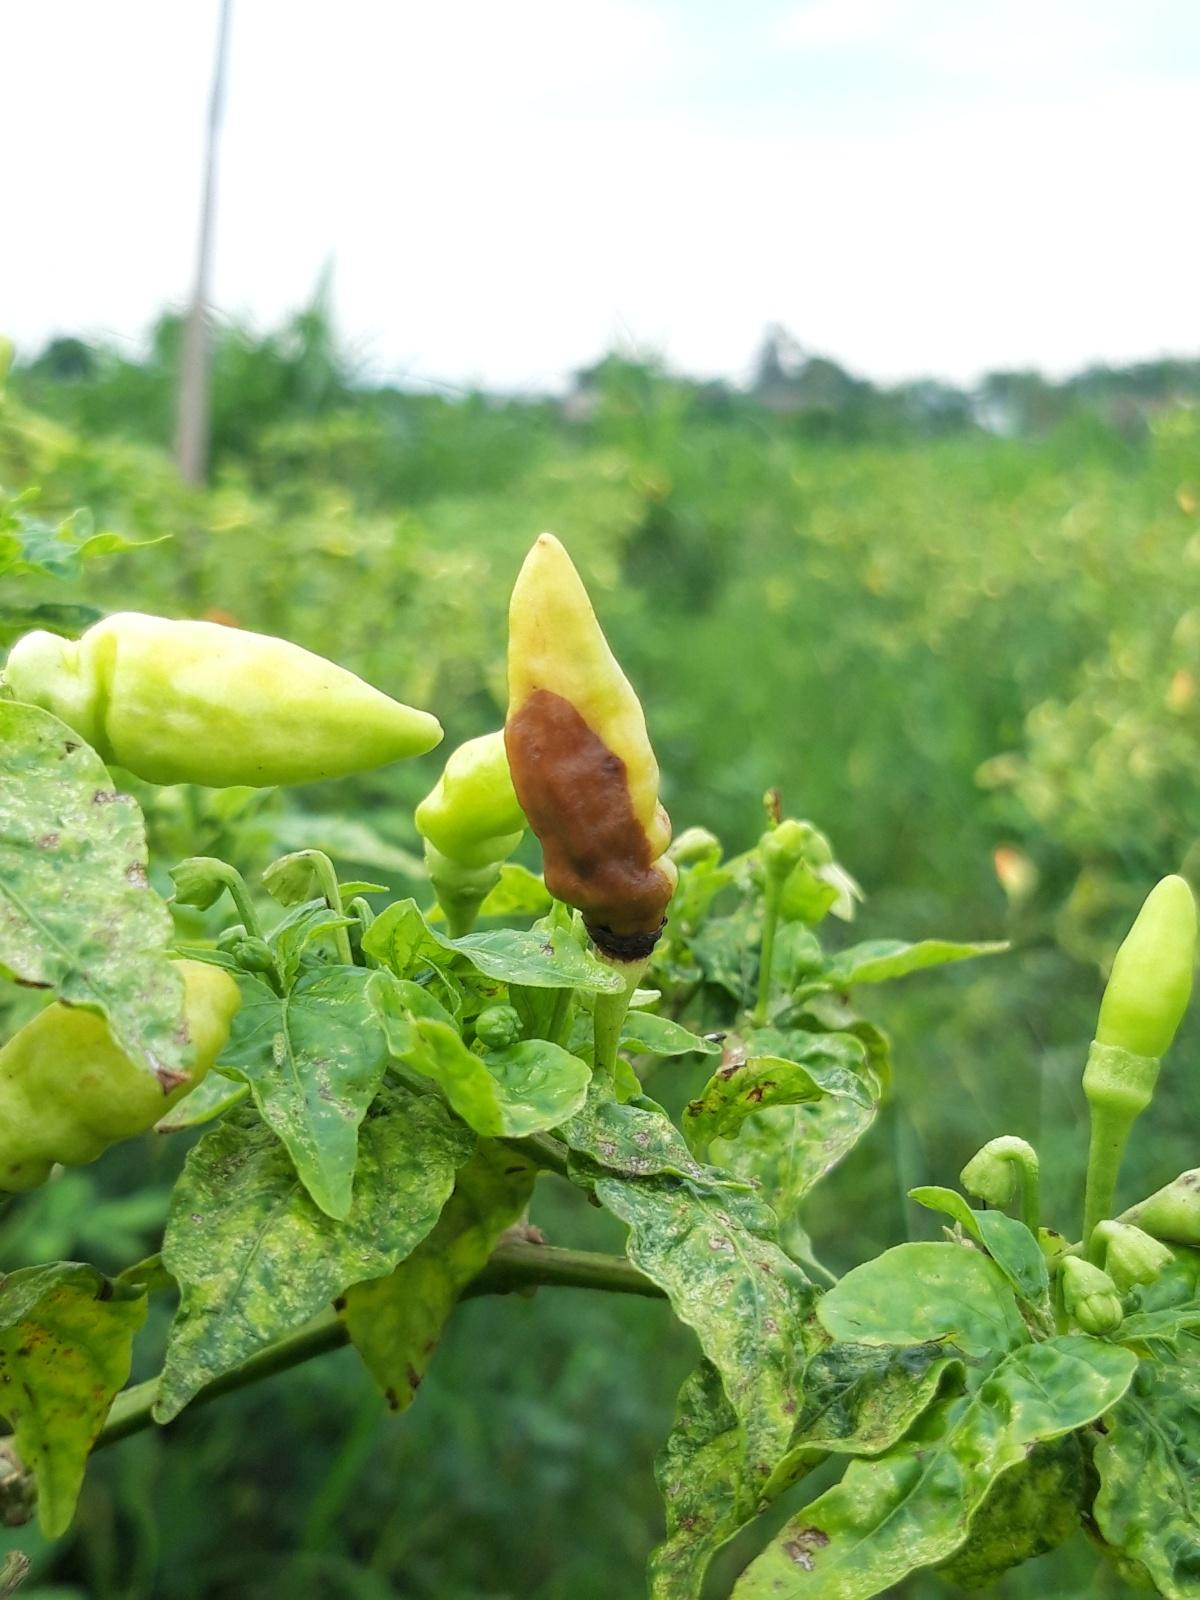cabai_normal: (5, 609, 444, 787), (1082, 873, 1200, 1116)
lalat_buah: (500, 530, 682, 973)
